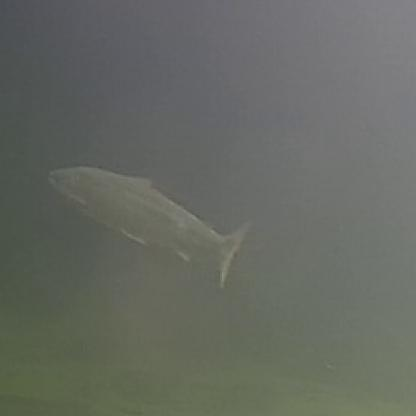salmon: (40, 159, 253, 288)
